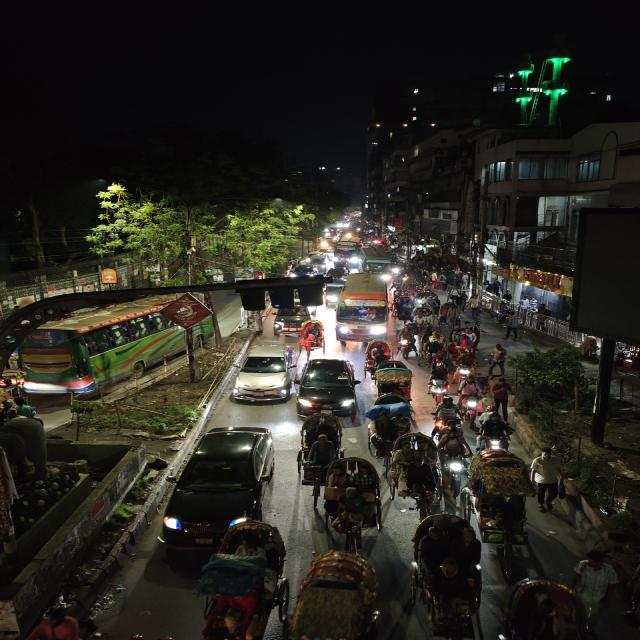bus: (6, 297, 177, 395), (333, 271, 396, 343), (361, 246, 396, 278), (332, 240, 361, 268)
car: (158, 423, 279, 550), (229, 341, 296, 403), (296, 356, 360, 414)
motorcycle: (476, 412, 517, 454), (440, 447, 468, 499), (458, 376, 486, 422), (431, 394, 463, 432), (363, 339, 393, 377), (425, 362, 452, 402), (395, 322, 420, 360), (0, 378, 25, 416), (453, 352, 479, 382)
pedestrian: (571, 549, 618, 624), (530, 448, 568, 512), (622, 552, 640, 636), (488, 376, 516, 414), (486, 343, 510, 375), (504, 314, 520, 342)
rickshaw: (404, 511, 489, 639), (189, 544, 290, 638), (282, 549, 384, 640), (466, 456, 536, 557), (318, 456, 384, 545), (386, 436, 436, 514), (298, 410, 344, 488), (364, 395, 416, 457), (374, 362, 415, 396), (297, 319, 326, 355), (447, 326, 481, 356), (422, 332, 448, 366), (412, 304, 435, 328)
